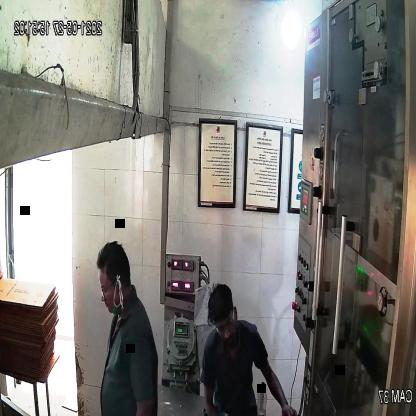goggles: (214, 307, 239, 338)
